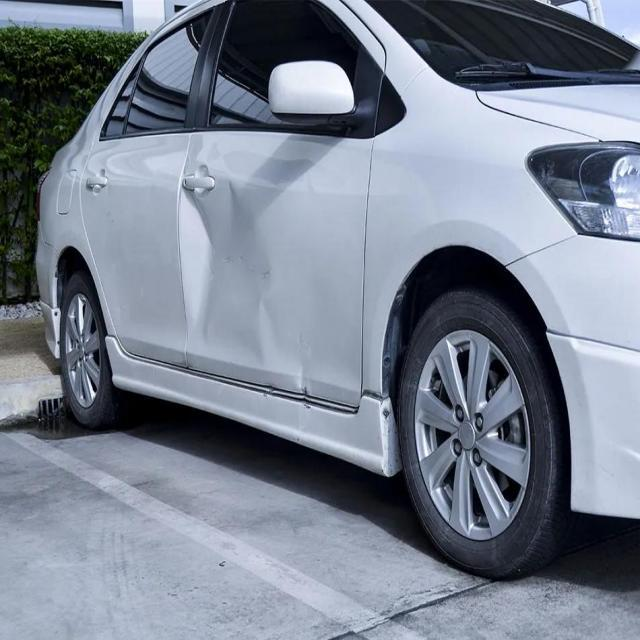dent: (172, 153, 302, 394)
